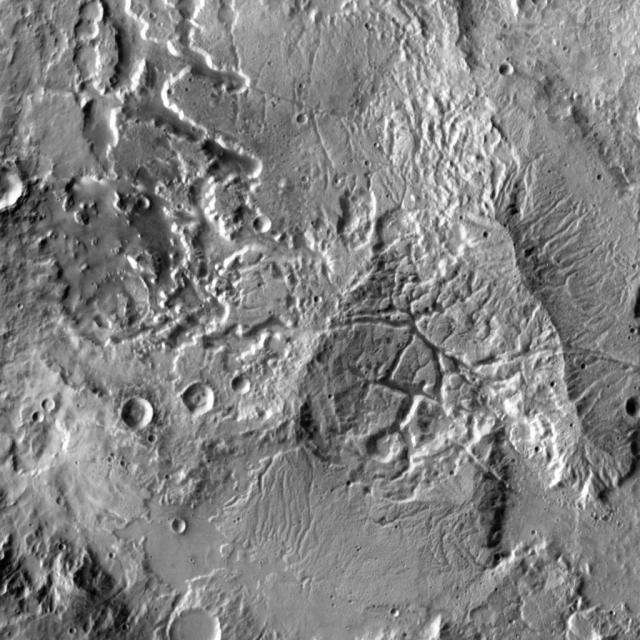crater: (142, 512, 224, 587), (170, 606, 222, 640), (507, 417, 545, 455), (418, 311, 453, 347), (0, 161, 24, 211), (121, 398, 153, 428), (183, 383, 215, 412), (76, 13, 102, 38), (79, 0, 105, 23), (232, 376, 250, 394), (253, 216, 272, 233), (626, 395, 640, 418), (448, 373, 463, 389), (499, 62, 514, 77), (172, 519, 186, 533), (41, 398, 55, 411), (138, 198, 150, 210), (515, 180, 526, 190), (297, 114, 308, 124), (34, 412, 44, 423), (21, 7, 31, 17), (418, 86, 428, 95), (532, 0, 547, 6), (148, 433, 158, 442), (0, 584, 8, 595), (56, 496, 65, 505), (390, 609, 400, 617), (84, 556, 92, 565), (351, 196, 361, 203), (595, 99, 603, 107), (214, 263, 222, 271), (59, 605, 67, 612), (364, 160, 372, 167), (32, 544, 39, 552), (109, 76, 117, 83), (365, 22, 372, 30), (630, 327, 638, 334), (314, 296, 322, 303), (346, 480, 353, 488), (483, 231, 491, 238), (535, 446, 543, 453), (392, 17, 399, 24), (604, 515, 611, 522), (168, 88, 175, 95), (494, 554, 502, 560), (508, 619, 516, 625), (580, 363, 588, 369), (258, 282, 264, 289), (302, 176, 309, 182), (449, 470, 456, 476), (178, 203, 185, 209), (503, 23, 510, 29), (165, 474, 172, 480), (150, 12, 157, 18), (59, 544, 66, 550), (218, 467, 224, 473), (0, 551, 4, 560), (299, 83, 305, 89), (356, 98, 362, 104), (335, 178, 341, 184), (330, 345, 336, 351), (232, 518, 238, 524), (610, 610, 616, 616), (120, 460, 126, 466), (531, 529, 537, 535), (459, 215, 465, 221), (550, 381, 556, 387), (41, 553, 47, 559), (597, 174, 603, 180), (70, 628, 76, 634), (110, 552, 116, 558), (122, 624, 128, 630), (311, 220, 316, 226), (234, 518, 240, 523), (90, 281, 96, 286), (499, 36, 504, 42), (136, 119, 141, 125), (220, 607, 226, 612), (591, 512, 596, 518), (188, 77, 194, 82), (108, 457, 114, 462), (613, 52, 619, 57), (563, 46, 568, 52), (479, 170, 484, 176), (633, 263, 638, 269), (506, 57, 512, 62), (570, 422, 575, 428), (18, 303, 23, 309), (328, 394, 334, 399), (154, 607, 159, 612), (268, 61, 273, 66), (618, 523, 623, 528), (237, 517, 242, 522), (374, 142, 379, 147), (185, 87, 190, 92), (331, 603, 336, 608), (27, 23, 32, 28), (158, 22, 163, 27), (208, 458, 212, 464), (350, 104, 356, 108), (556, 517, 560, 522), (374, 65, 378, 70), (569, 606, 574, 610), (333, 587, 338, 591), (273, 124, 278, 128), (636, 386, 640, 391), (394, 525, 399, 529), (298, 520, 303, 524), (158, 520, 163, 524), (356, 547, 361, 551), (458, 630, 463, 634), (269, 310, 273, 315), (606, 384, 611, 388), (627, 336, 632, 340), (348, 600, 353, 604), (77, 403, 81, 408), (200, 304, 204, 308), (512, 459, 516, 463), (146, 616, 150, 620), (491, 572, 495, 576), (455, 595, 459, 599), (29, 523, 33, 527), (386, 194, 390, 198), (190, 558, 194, 562), (75, 461, 79, 465), (330, 595, 334, 599)
